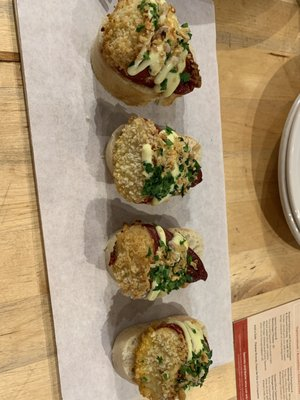curry: (106, 115, 203, 206)
